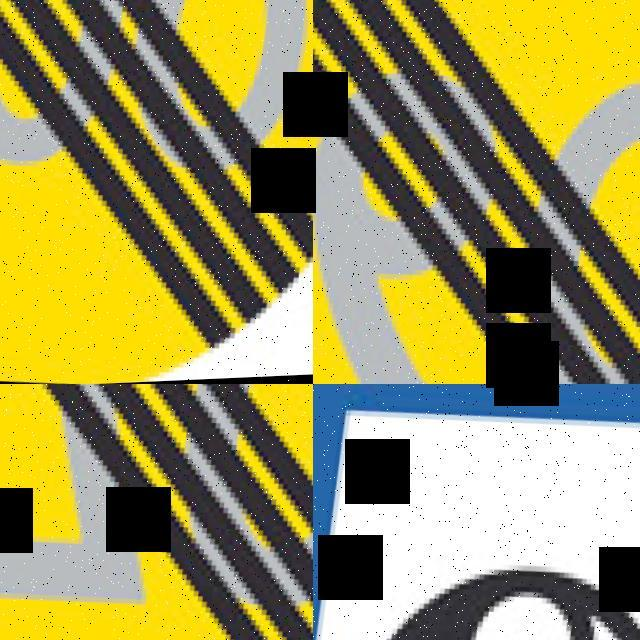124: (313, 0, 640, 384)
89: (313, 384, 640, 640)
end of the speed limit: (0, 0, 313, 384), (0, 384, 313, 640)
